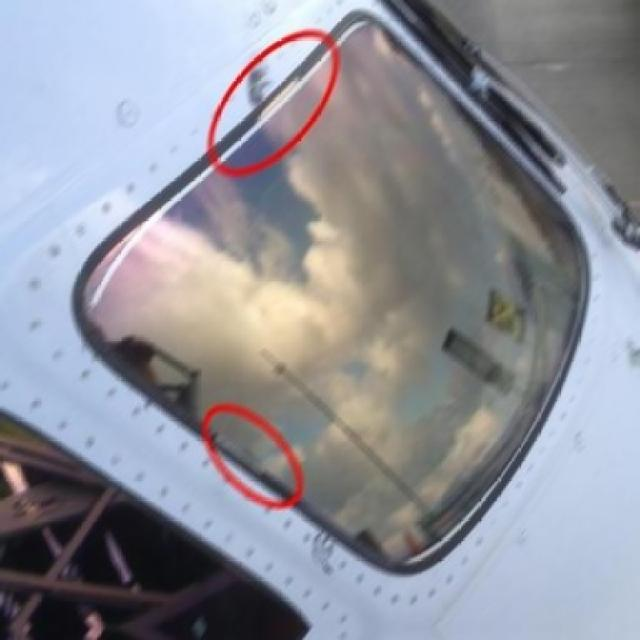crack: (314, 531, 332, 574)
